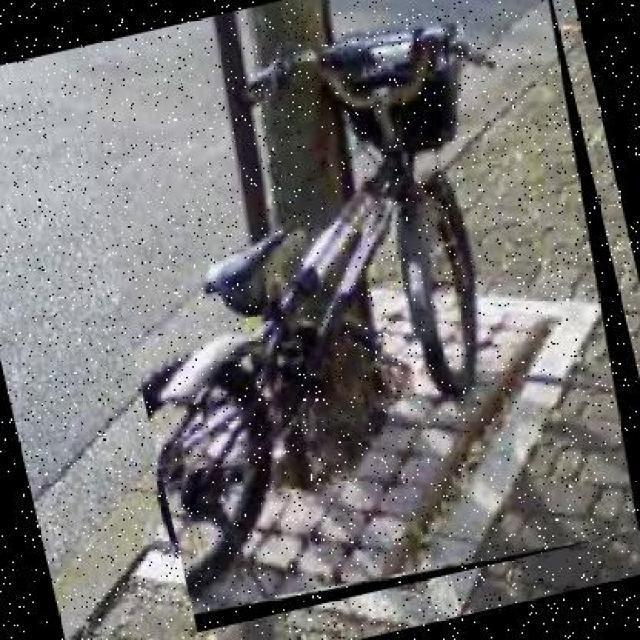bicycle: (62, 1, 639, 636)
